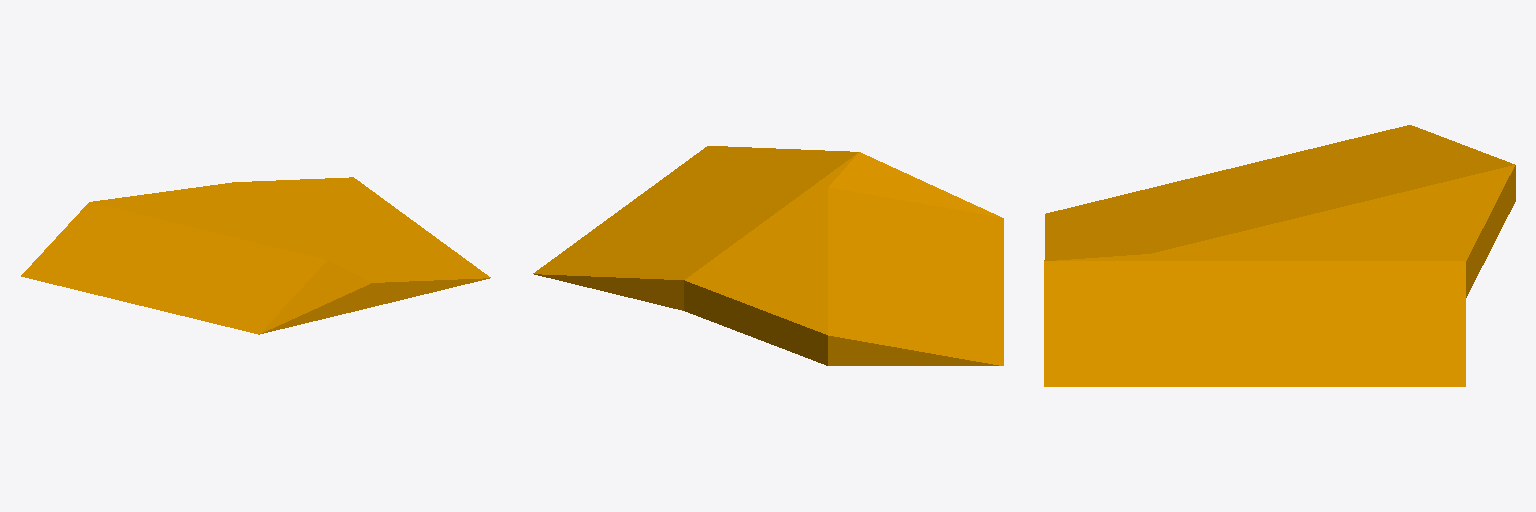
URDF robot description (block3_11_11):
<?xml version="1.0" ?>
<robot name="block3_11_11">
  <link name="block3_11_11__link_6">
    <inertial>
      <mass value="10000"/>
      <origin rpy="0      0     -1.5708" xyz="0 0 0"/>
      <inertia ixx="0.166667" ixy="0" ixz="0" iyy="0.166667" iyz="0" izz="0.166667"/>
    </inertial>
    <collision name="block3_11_11__collision">
      <origin rpy="0      0     -1.5708" xyz="0 0 0"/>
      <geometry>
        <mesh filename="package://block3_11_11/block3_11_11.stl" scale="1 1 1"/>
      </geometry>
    </collision>
    <visual name="block3_11_11__visual">
      <origin rpy="0      0     -1.5708" xyz="0 0 0"/>
      <geometry>
        <mesh filename="package://block3_11_11/block3_11_11.stl" scale="1 1 1"/>
      </geometry>
    </visual>
  </link>
</robot>

--- What the picture shows (computed from the rendered views, not written in the file) ---
The picture shows the robot from 3 angles, left to right: view 1: azimuth 30°, elevation 25°; view 2: azimuth 150°, elevation 25°; view 3: azimuth 270°, elevation 25°; orthographic projection.
Robot: block3_11_11 — 1 links, 0 joints (none); root link block3_11_11__link_6; default pose: all joints at 0.
Links seen in each view (by area): view 1: block3_11_11__link_6; view 2: block3_11_11__link_6; view 3: block3_11_11__link_6.
Link boxes in pixels (bbox=[...]): block3_11_11__link_6: bbox=[21, 177, 490, 334]; block3_11_11__link_6: bbox=[533, 146, 1003, 365]; block3_11_11__link_6: bbox=[1044, 125, 1515, 386].
Size in the robot's own frame: 4.43 by 3.36 by 0.291 metres.
1 mesh visuals loaded from 1 distinct referenced files (1 binary STL).